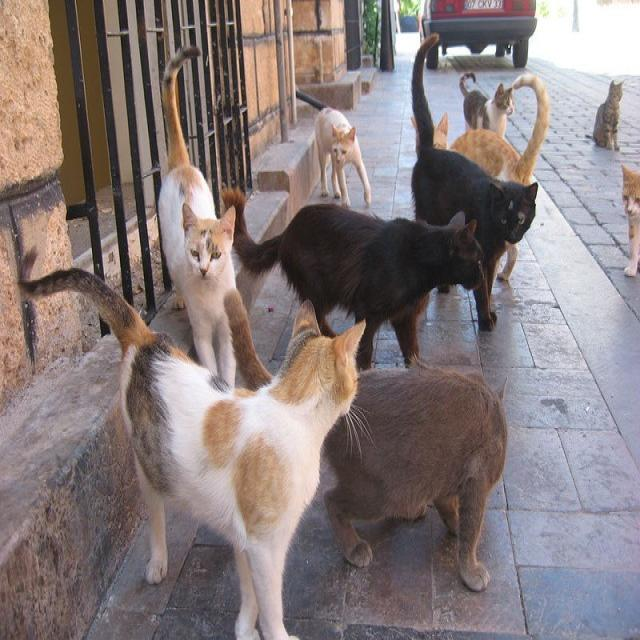cat: (21, 268, 365, 638), (224, 190, 484, 369), (325, 362, 508, 591), (411, 35, 538, 330), (159, 48, 236, 384), (450, 75, 550, 184), (315, 108, 371, 206), (225, 290, 271, 388), (459, 72, 515, 136), (592, 80, 624, 149), (622, 165, 640, 276), (499, 245, 518, 280), (434, 113, 449, 149), (412, 117, 418, 148)
